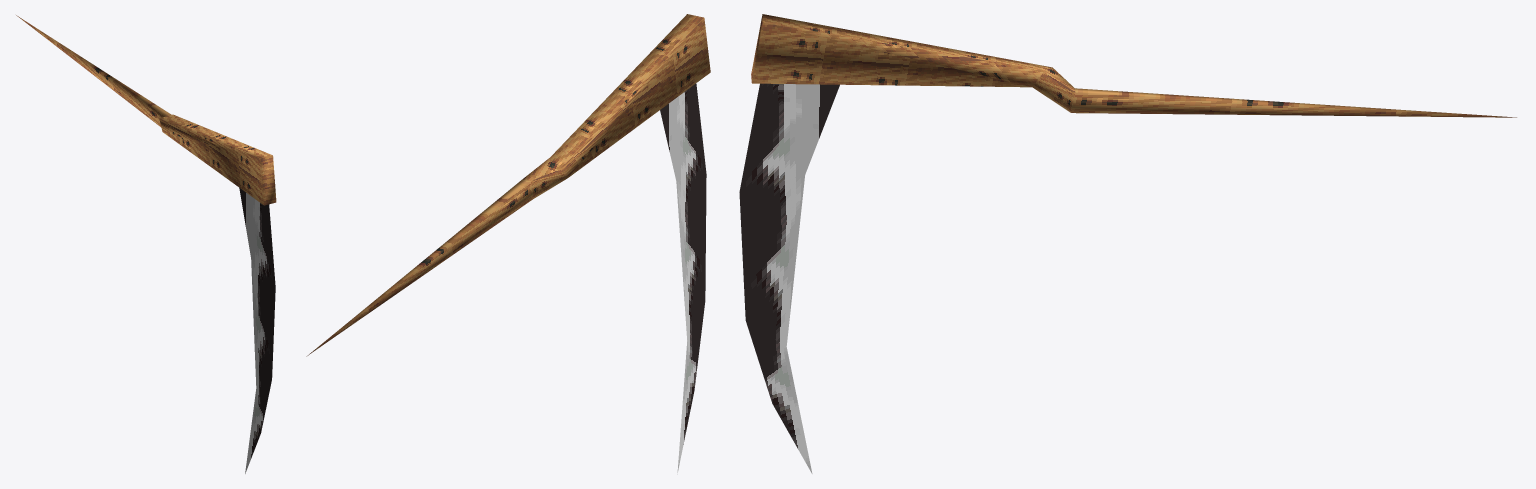
The model's file is 2797item2797.gltf.
The picture shows the model from 3 angles, left to right: view 1: azimuth 30°, elevation 25°; view 2: azimuth 150°, elevation 25°; view 3: azimuth 270°, elevation 25°; orthographic projection. The views are drawn at different scales.
Parts seen in each view (by area): view 1: 2797item2797; view 2: 2797item2797; view 3: 2797item2797.
Part boxes in pixels (bbox=[...]): 2797item2797: bbox=[16, 15, 276, 473]; 2797item2797: bbox=[306, 14, 710, 474]; 2797item2797: bbox=[739, 14, 1516, 473].
Size of the model in its own units: 0.1101 by 1.28 by 1.97.
Materials: 2 (2 with a texture image).
